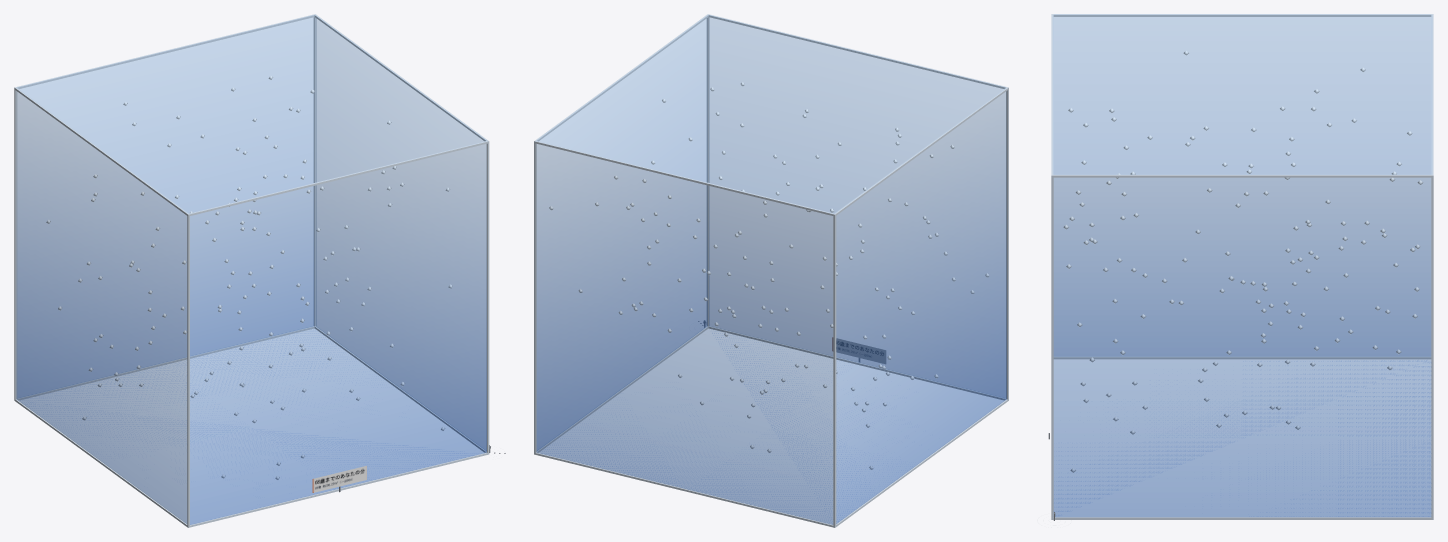
The model's file is cube_life_66.glb.
The picture shows the model from 3 angles, left to right: view 1: azimuth 30°, elevation 25°; view 2: azimuth 150°, elevation 25°; view 3: azimuth 270°, elevation 25°; orthographic projection. The views are drawn at different scales.
Parts seen in each view (by area): view 1: co2, edge, dots, label; view 2: co2, edge, dots, label; view 3: co2, edge, dots.
Part boxes in pixels (x1,y1,x2,y2): co2: [16, 15, 486, 524]; edge: [14, 14, 489, 527]; dots: [46, 76, 452, 479]; label: [312, 466, 366, 492]; co2: [536, 15, 1006, 524]; edge: [534, 14, 1008, 527]; dots: [549, 82, 989, 469]; label: [832, 337, 885, 363]; co2: [1053, 14, 1432, 516]; edge: [1051, 14, 1433, 519]; dots: [1063, 50, 1423, 472].
Bounding box in the file's own units: 69.98 × 66.21 × 69.08.
Materials: 8 (3 with a texture image).
